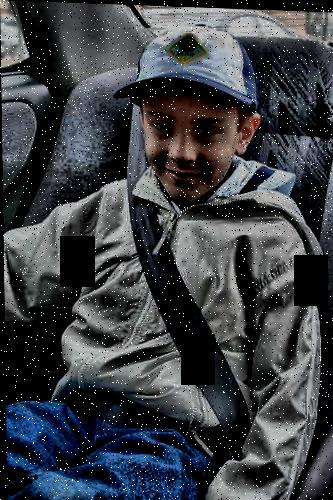seatbelt: (85, 84, 257, 470)
